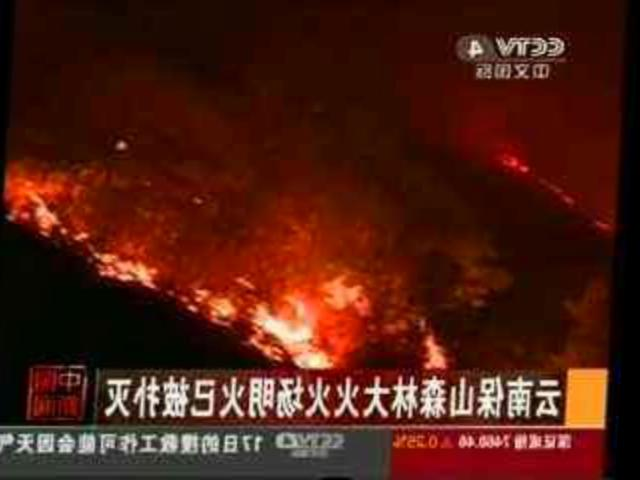fire: (7, 176, 257, 324), (257, 286, 350, 366), (425, 326, 455, 366)
